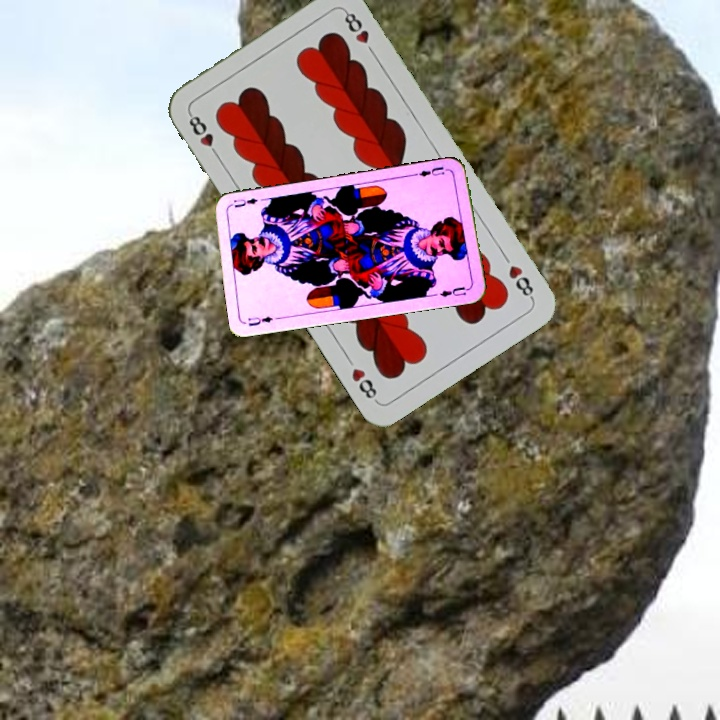EU: (412, 162, 453, 180), (244, 312, 275, 328)
H8: (184, 108, 223, 161), (504, 261, 537, 303)
